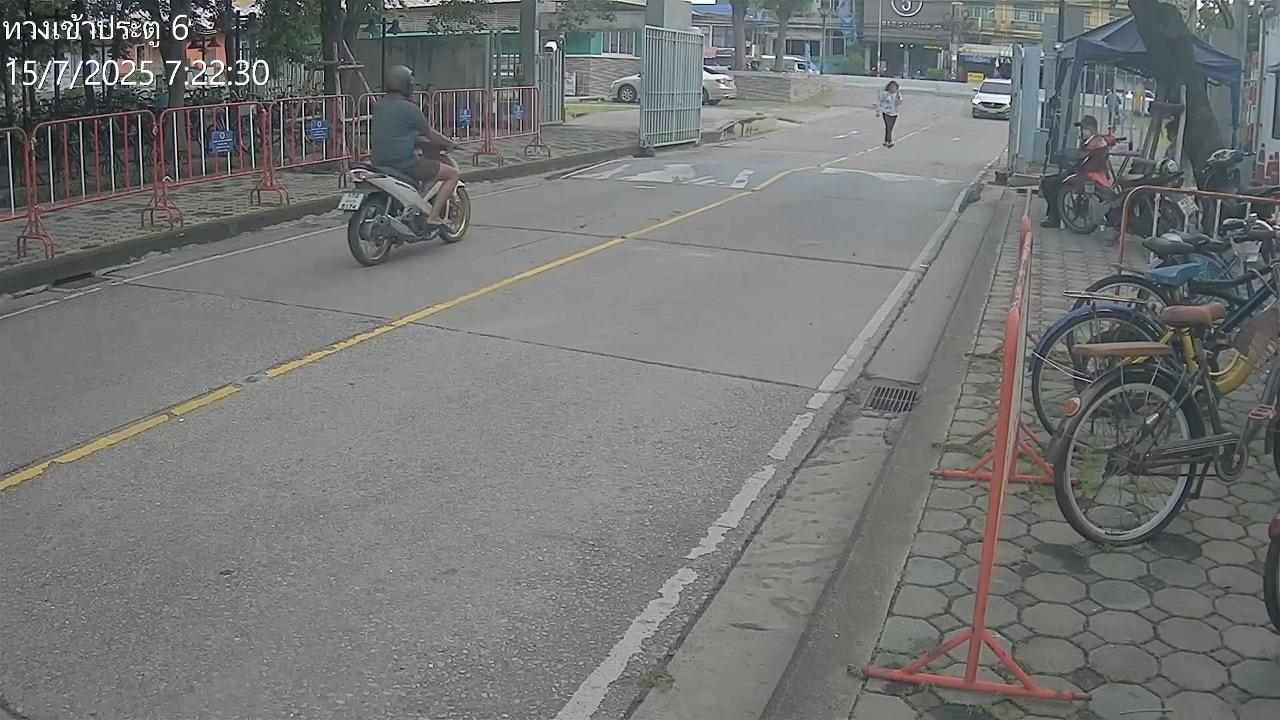With-Helmet: (381, 64, 416, 97)
